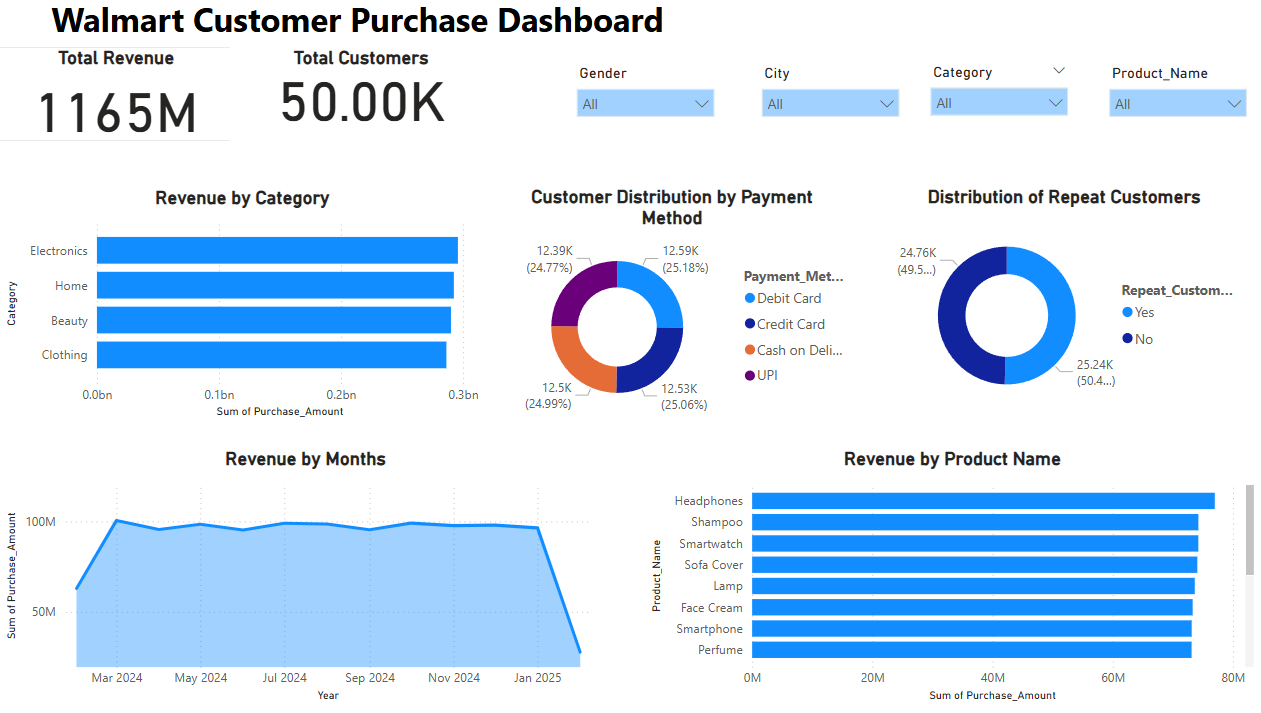

What the dashboard file says about the page in this screenshot:
{"tool":"powerbi","page":{"name":"Page 1","canvas":[1280,720],"ordinal":0},"visuals":[{"type":"areaChart","title":"Revenue by Months","fields":{"Category":["data clean.Purchase_Date.Variation.Date Hierarchy.Year","data clean.Purchase_Date.Variation.Date Hierarchy.Month"],"Y":["Sum(data clean.Purchase_Amount)"]},"box":[11,446.3,595.5,253.1],"z":0},{"type":"barChart","title":"Revenue by Category","fields":{"Category":["data clean.Category"],"Y":["Sum(data clean.Purchase_Amount)"]},"box":[11,190.8,472,231.1],"z":1000},{"type":"donutChart","title":"Customer Distribution by Payment Method","fields":{"Category":["data clean.Payment_Method"],"Y":["CountNonNull(data clean.Customer_ID)"]},"box":[485.8,189.4,363.6,231.9],"z":2000},{"type":"card","title":"Total Revenue","fields":{"Values":["Sum(data clean.Purchase_Amount)"]},"box":[0,53.5,247,91.9],"z":3000},{"type":"card","title":"Total Customers","fields":{"Values":["CountNonNull(data clean.Customer_ID)"]},"box":[234.6,53.5,256.6,91.9],"z":4000},{"type":"slicer","fields":{"Values":["data clean.Gender"]},"box":[564,65.9,155.1,79.6],"z":5000},{"type":"slicer","fields":{"Values":["data clean.Product_Name"]},"box":[1084.1,65.9,155.1,75.5],"z":6000},{"type":"textbox","box":[54.9,0,1225.4,53.5],"z":7000},{"type":"slicer","fields":{"Values":["data clean.Category"]},"box":[909.8,64.5,155.1,81],"z":8000},{"type":"slicer","fields":{"Values":["data clean.City"]},"box":[745.1,65.9,155.1,65.9],"z":9000},{"type":"donutChart","title":"Distribution of Repeat Customers","fields":{"Category":["data clean.Repeat_Customer"],"Y":["CountNonNull(data clean.Customer_ID)"]},"box":[878.2,189.4,345.8,231.9],"z":10000},{"type":"barChart","title":"Revenue by Product Name","fields":{"Category":["data clean.Product_Name"],"Y":["Sum(data clean.Purchase_Amount)"]},"box":[642,446.3,599.2,253.1],"z":11000}]}

Visuals, with their boxes in screenshot pixels (x1, y1, x2, y2), scaled from the page's 1280x720 canvas onto the 1261x713 screenshot:
"Revenue by Months" areaChart: [left=11, top=442, right=597, bottom=693]
"Revenue by Category" barChart: [left=11, top=189, right=476, bottom=418]
"Customer Distribution by Payment Method" donutChart: [left=479, top=188, right=837, bottom=417]
"Total Revenue" card: [left=0, top=53, right=243, bottom=144]
"Total Customers" card: [left=231, top=53, right=484, bottom=144]
slicer - data clean.Gender: [left=556, top=65, right=708, bottom=144]
slicer - data clean.Product_Name: [left=1068, top=65, right=1221, bottom=140]
textbox: [left=54, top=0, right=1260, bottom=53]
slicer - data clean.Category: [left=896, top=64, right=1049, bottom=144]
slicer - data clean.City: [left=734, top=65, right=887, bottom=131]
"Distribution of Repeat Customers" donutChart: [left=865, top=188, right=1206, bottom=417]
"Revenue by Product Name" barChart: [left=632, top=442, right=1223, bottom=693]
